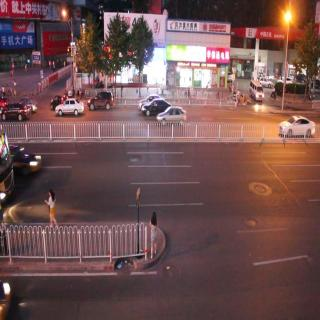BigCar: (0, 128, 13, 214), (247, 79, 264, 109)
Car: (279, 112, 320, 146), (154, 102, 185, 134), (11, 143, 41, 173), (1, 101, 34, 126), (140, 94, 169, 120), (87, 90, 116, 114), (57, 100, 88, 118)
